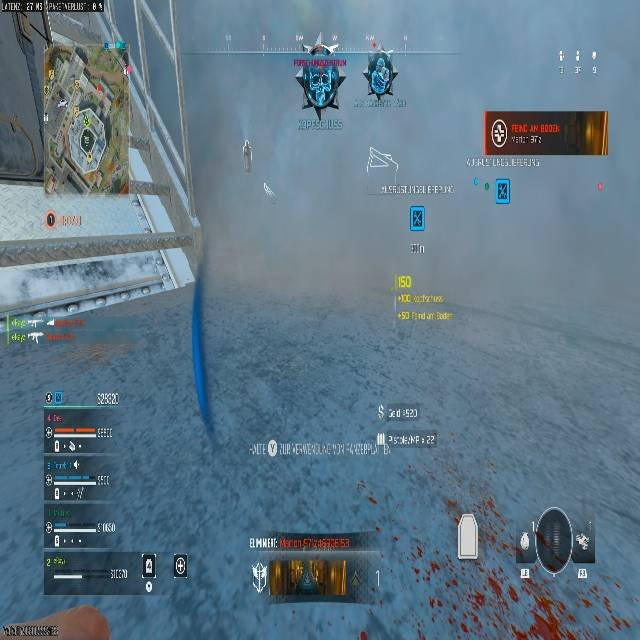player: (294, 43, 345, 118)
